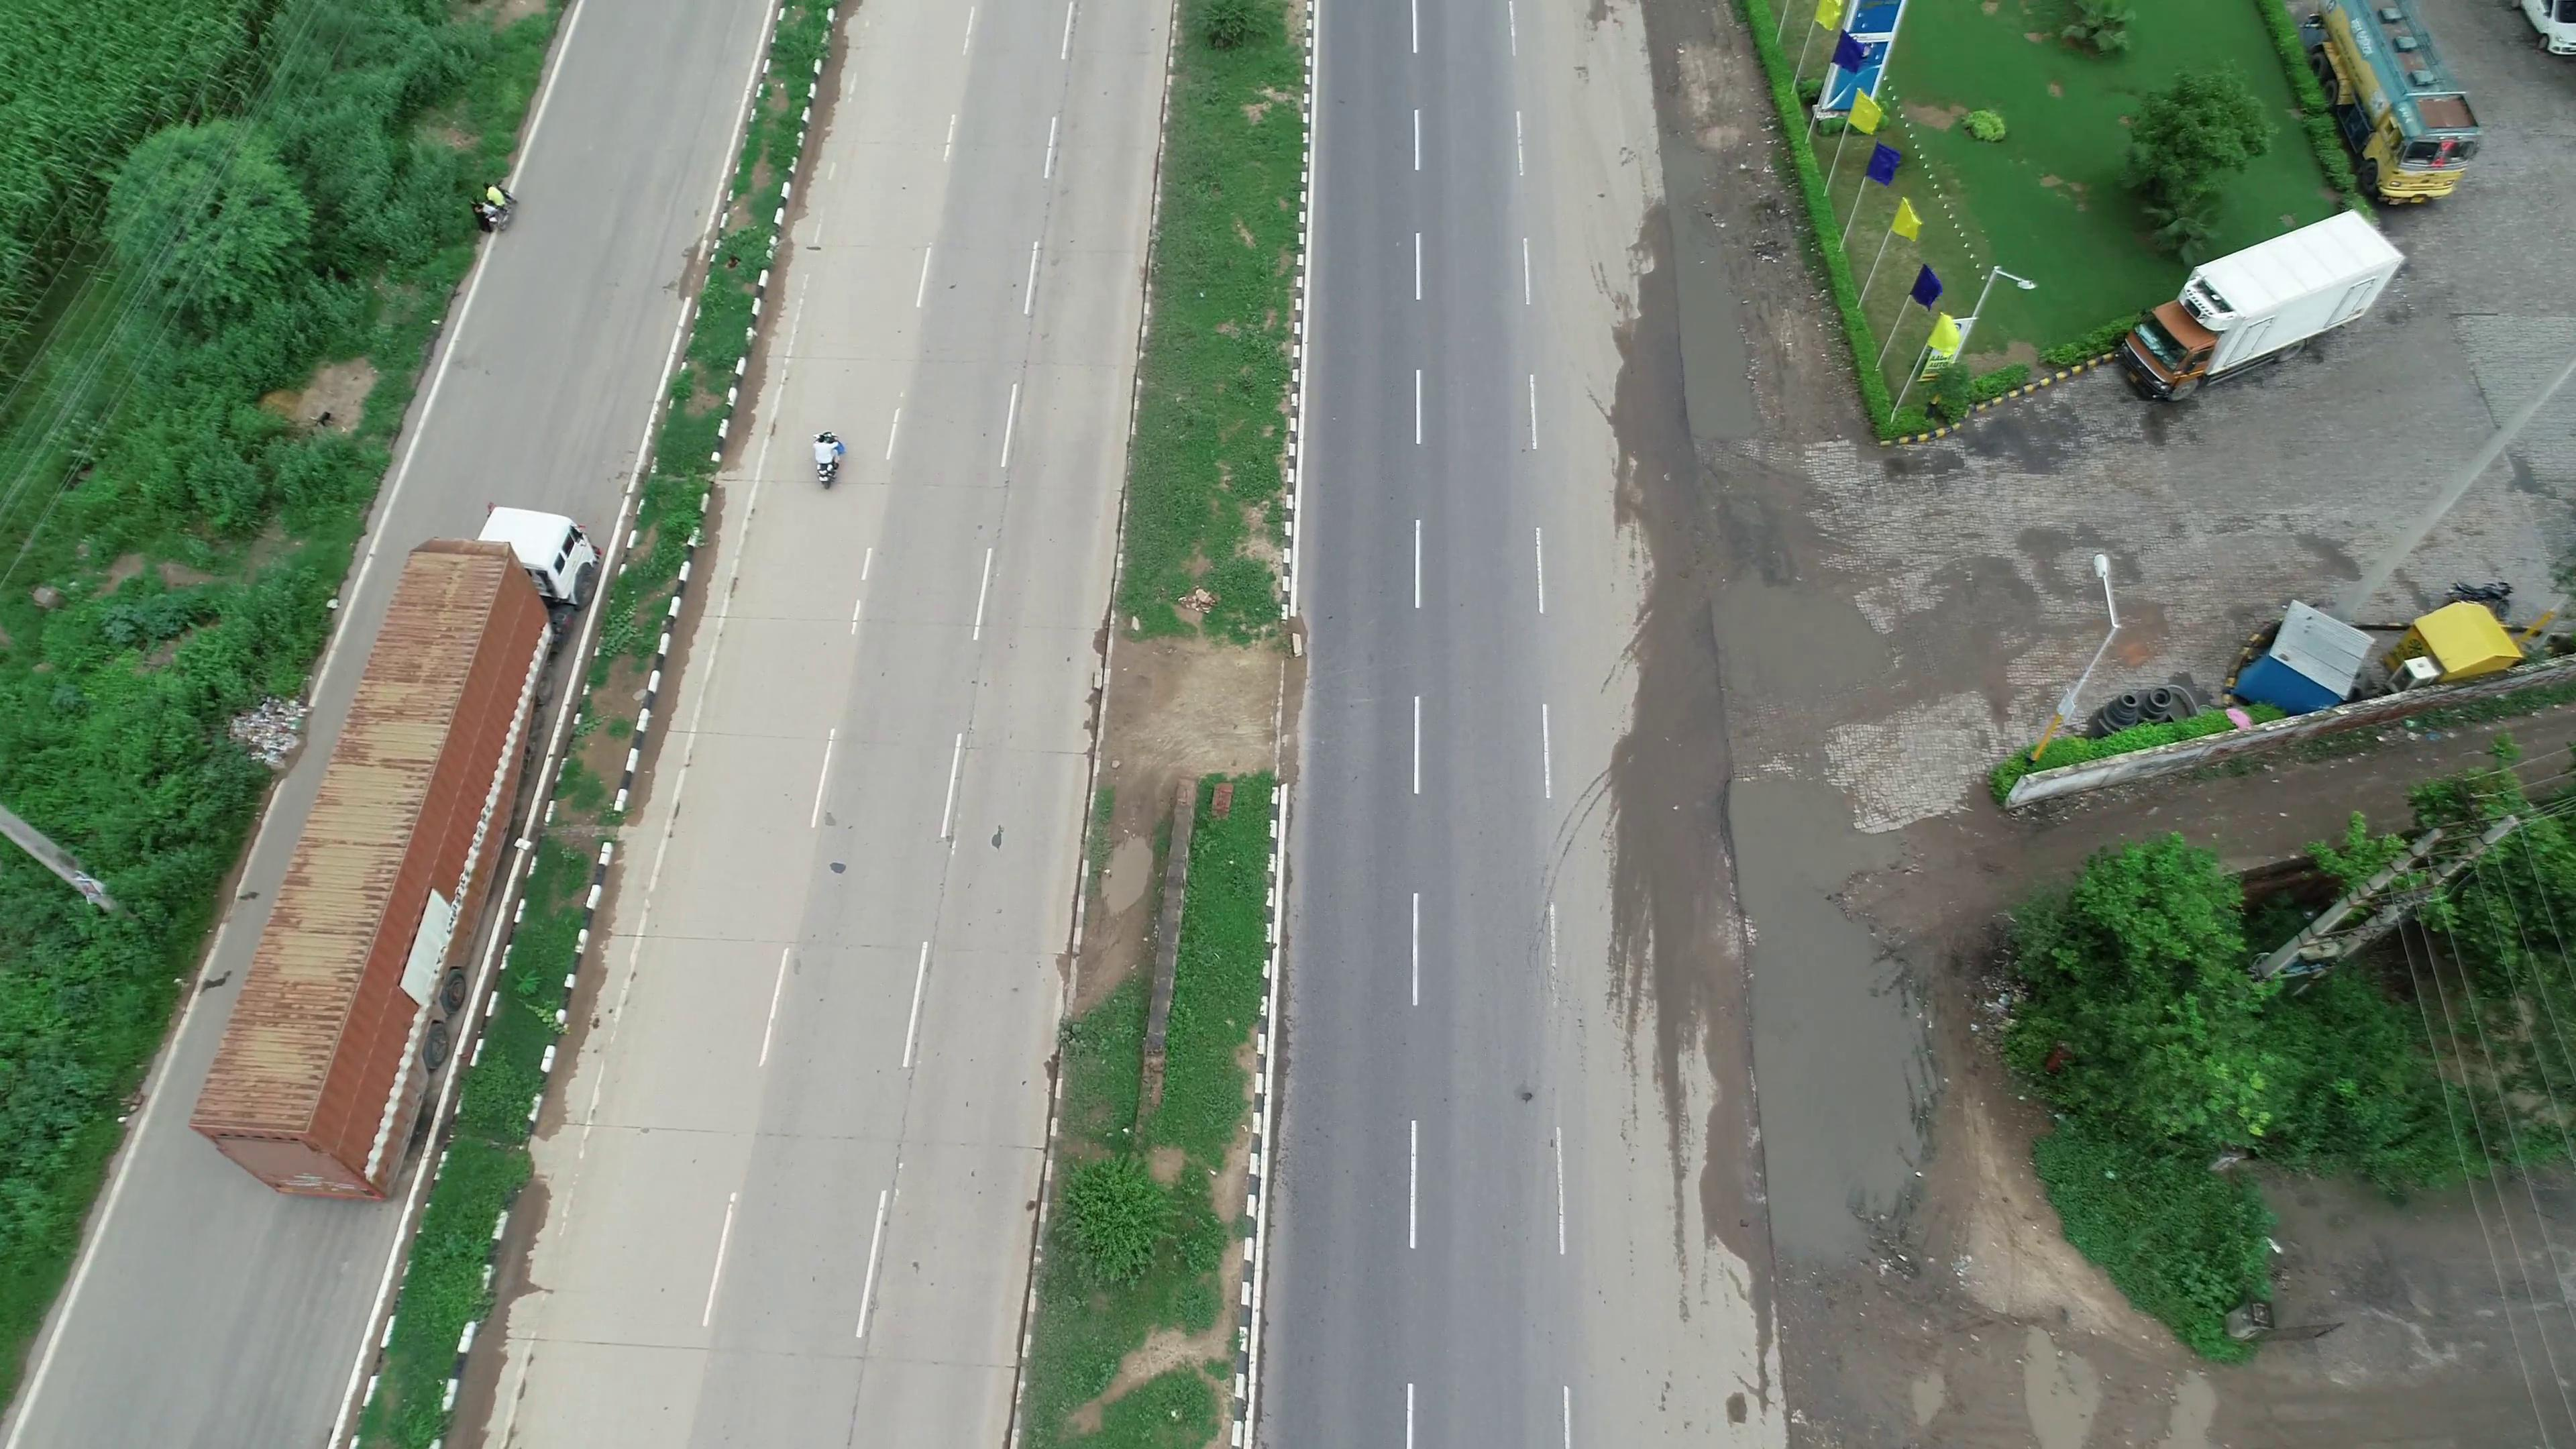Waterlogging: (1711, 732, 1904, 1244)
